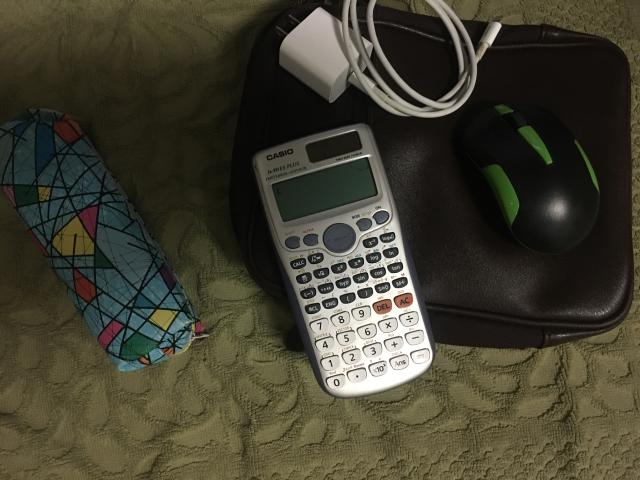Mouse: (462, 104, 600, 254)
wire: (275, 0, 501, 118)
